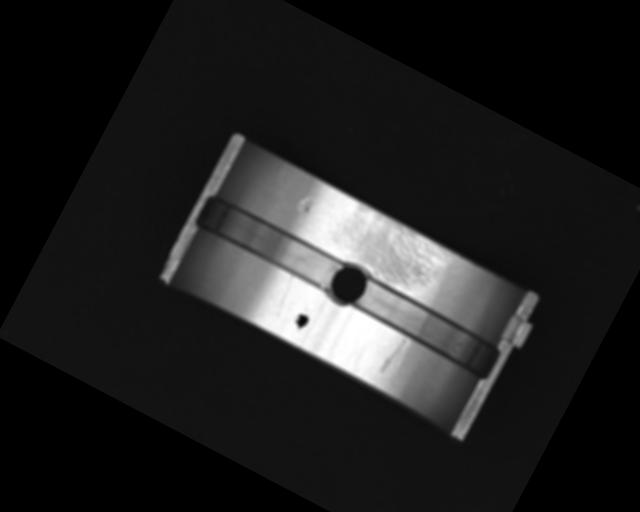blot: (289, 310, 312, 335)
bruise: (296, 193, 315, 214)
gap: (352, 277, 505, 381), (193, 192, 345, 296)
hole: (320, 256, 375, 315)
nick: (376, 334, 413, 380), (272, 274, 298, 315)
scratch: (322, 196, 455, 304)
